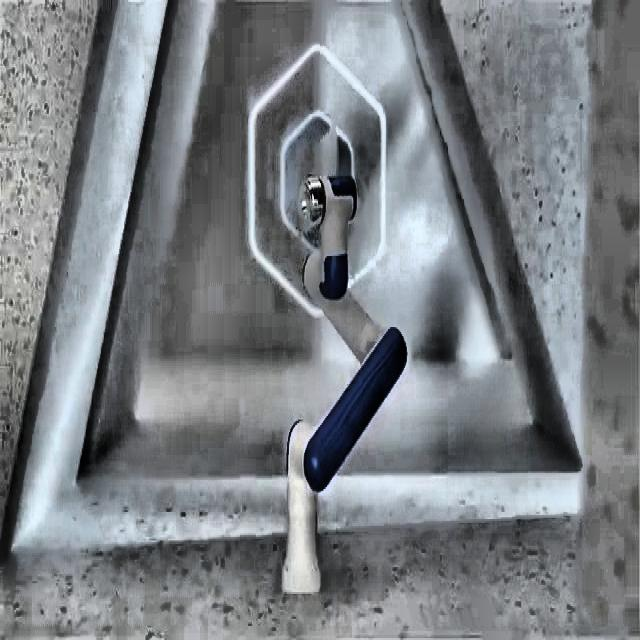robot: (247, 154, 409, 594)
